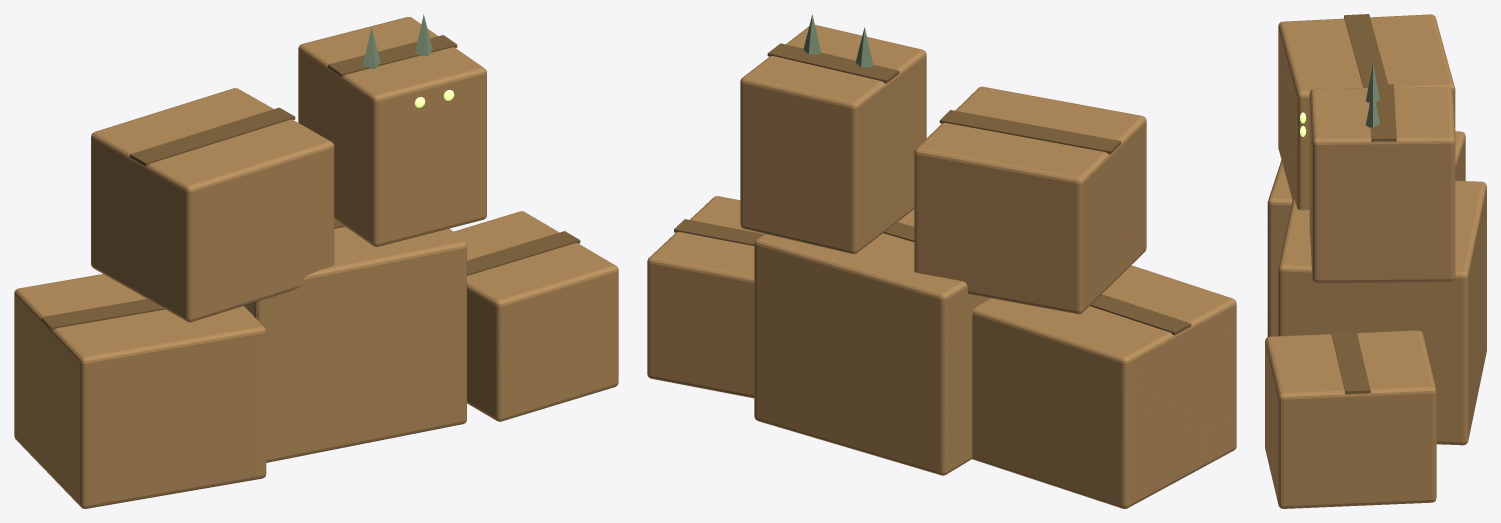
The model's file is zc_cardboard_barricade.godot.glb.
3 views of the same model, side by side, from view 1: azimuth 30°, elevation 25°; view 2: azimuth 150°, elevation 25°; view 3: azimuth 270°, elevation 25° (orthographic). The views are drawn at different scales.
Visible parts, largest first — view 1: zc_cardboard_barricade; view 2: zc_cardboard_barricade; view 3: zc_cardboard_barricade.
Part boxes in pixels (left/top/right/bottom): zc_cardboard_barricade: left=14, top=14, right=618, bottom=508; zc_cardboard_barricade: left=647, top=14, right=1236, bottom=508; zc_cardboard_barricade: left=1265, top=14, right=1486, bottom=508.
Size of what is drawn, in the model's own units: 1.83 by 1.23 by 0.6977.
Materials: 2 (1 with a texture image).
